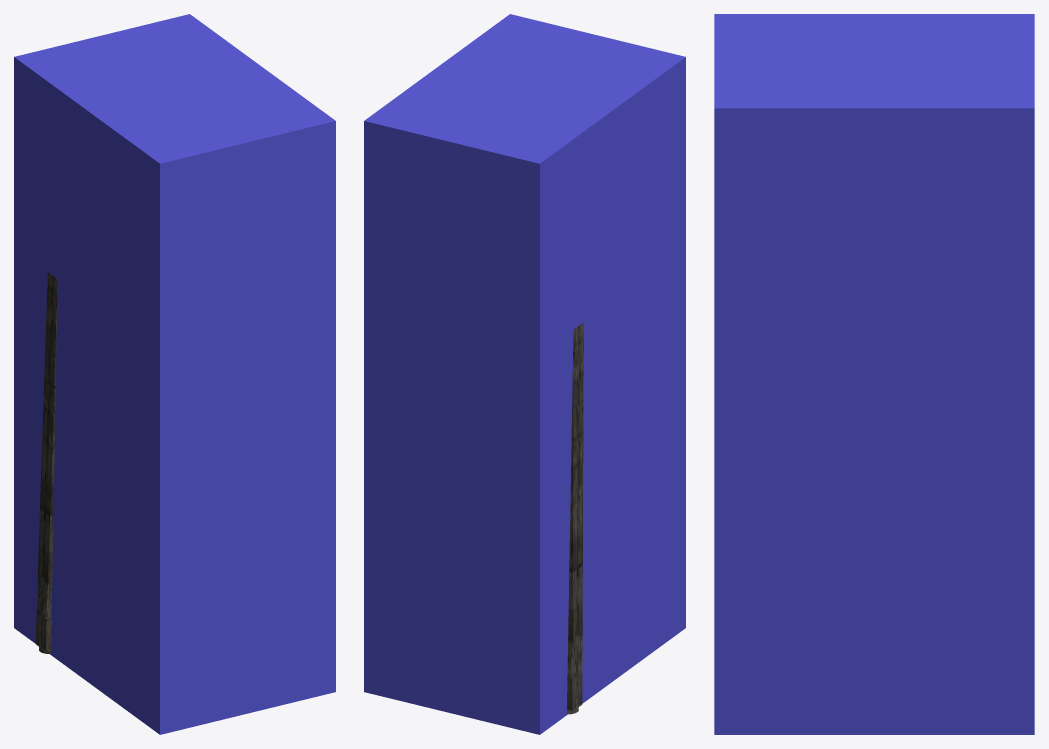
Rendered from pier_piece_1_posts.DAE.
The picture shows the model from 3 angles, left to right: view 1: azimuth 30°, elevation 25°; view 2: azimuth 150°, elevation 25°; view 3: azimuth 270°, elevation 25°; orthographic projection. The views are drawn at different scales.
Parts seen in each view (by area): view 1: bounds, colbox-12; view 2: bounds, colbox-12; view 3: bounds.
Part boxes in pixels (x1,y1,x2,y2): bounds: (14,14,335,734); colbox-12: (35,272,57,651); bounds: (364,14,685,734); colbox-12: (567,322,583,711); bounds: (714,14,1034,734).
Size of the model in its own units: 5.28 by 7.37 by 15.89.
